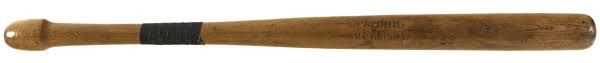bat: (3, 11, 598, 54)
